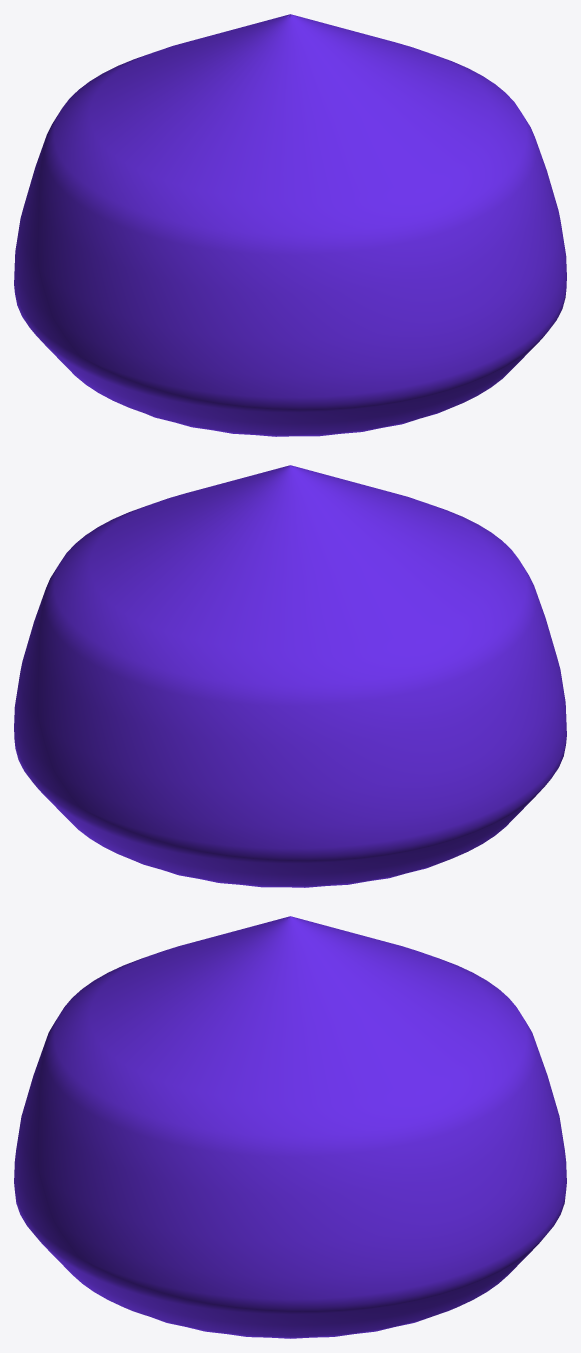
File: rocketUst.fbx
3 renders of one model, top to bottom at view 1: azimuth 30°, elevation 25°; view 2: azimuth 150°, elevation 25°; view 3: azimuth 270°, elevation 25°, orthographic.
Parts seen in each view (by area): view 1: Cylinder; view 2: Cylinder; view 3: Cylinder.
Part boxes in pixels (<box>): Cylinder: <box>14,14,566,436</box>; Cylinder: <box>14,465,566,887</box>; Cylinder: <box>14,916,566,1338</box>.
Bounding box in the file's own units: 121 × 79.46 × 121.
